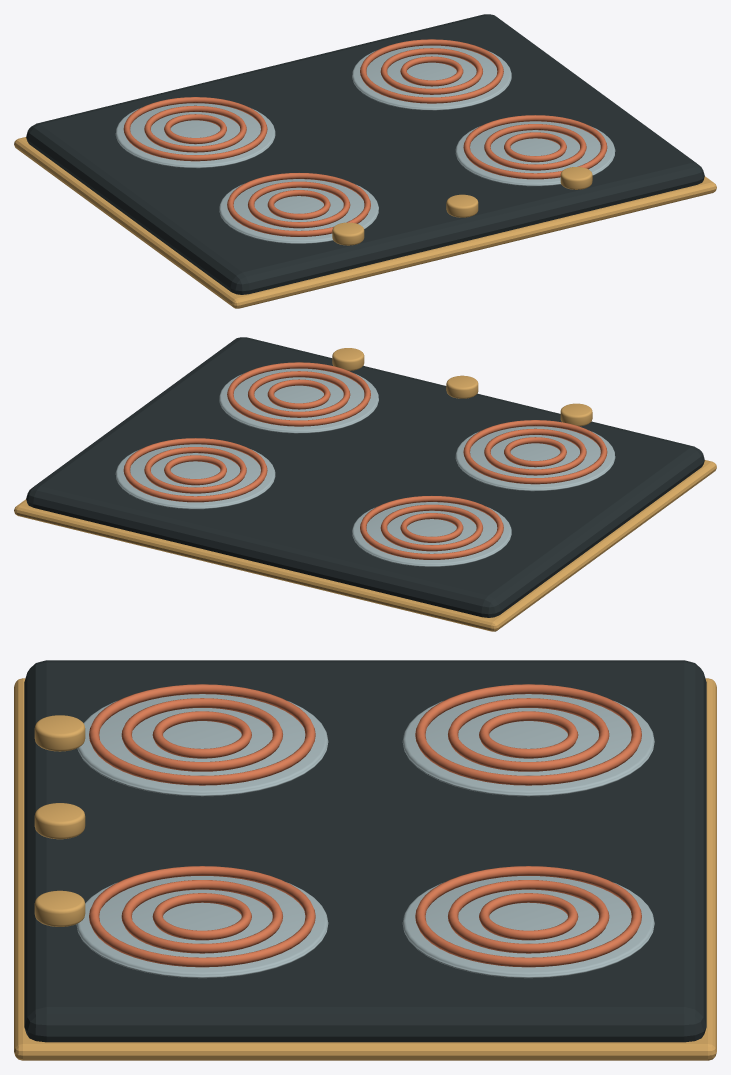
File: Hotplate.glb
3 renders of one model, top to bottom at view 1: azimuth 30°, elevation 25°; view 2: azimuth 150°, elevation 25°; view 3: azimuth 270°, elevation 25°, orthographic. The views are drawn at different scales.
Parts seen in each view (by area): view 1: HotplateBody, BrassEdge, Burner.003, Burner.001, Burner.002, Burner, Coil.011, Coil.005, Coil.002, Coil.008, Coil.010, Coil.007 (+9 smaller); view 2: HotplateBody, BrassEdge, Burner.002, Burner.003, Burner, Burner.001, Coil.008, Coil.011, Coil.002, Coil.005, Coil.007, Coil.010 (+9 smaller); view 3: HotplateBody, BrassEdge, Burner.001, Burner.003, Burner.002, Burner, Coil.002, Coil.005, Coil.008, Coil.011, Coil.007, Coil.010 (+9 smaller).
Boxes of the visible parts, x1,y1,x2,y2 form: HotplateBody: [26, 14, 704, 294]; BrassEdge: [14, 137, 716, 308]; Burner.003: [352, 45, 511, 110]; Burner.001: [115, 103, 275, 168]; Burner.002: [455, 121, 615, 186]; Burner: [219, 179, 378, 243]; Coil.011: [360, 39, 503, 103]; Coil.005: [123, 97, 267, 161]; Coil.002: [227, 172, 370, 236]; Coil.008: [463, 115, 607, 179]; Coil.010: [380, 48, 482, 94]; Coil.007: [484, 124, 586, 170]; HotplateBody: [26, 337, 704, 617]; BrassEdge: [14, 460, 716, 631]; Burner.002: [219, 368, 378, 433]; Burner.003: [115, 444, 275, 509]; Burner: [455, 426, 615, 491]; Burner.001: [352, 502, 511, 566]; Coil.008: [227, 362, 370, 426]; Coil.011: [123, 438, 267, 502]; Coil.002: [463, 420, 607, 484]; Coil.005: [360, 495, 503, 559]; Coil.007: [248, 371, 350, 417]; Coil.010: [144, 447, 246, 493]; HotplateBody: [24, 660, 706, 1042]; BrassEdge: [14, 678, 716, 1060]; Burner.001: [402, 694, 654, 796]; Burner.003: [402, 876, 654, 978]; Burner.002: [76, 876, 328, 978]; Burner: [77, 694, 328, 796]; Coil.002: [89, 684, 315, 785]; Coil.005: [415, 684, 641, 785]; Coil.008: [89, 866, 315, 967]; Coil.011: [415, 866, 641, 967]; Coil.007: [121, 880, 282, 953]; Coil.010: [448, 880, 609, 953].
Size of the model in its own units: 5.94 by 0.485 by 4.74.
